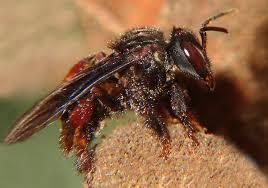Meliponula: (10, 5, 243, 178)
